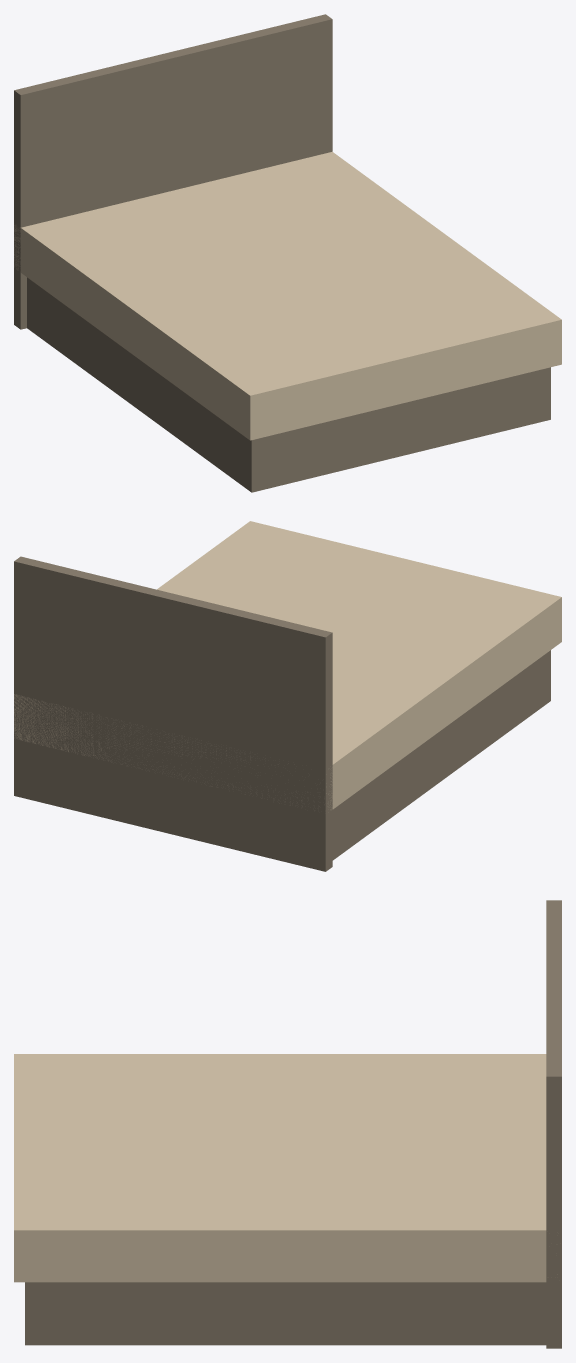
Rendered from bed_queen_premium.glb.
3 views of the same model, one above another, from view 1: azimuth 30°, elevation 25°; view 2: azimuth 150°, elevation 25°; view 3: azimuth 270°, elevation 25° (orthographic). The views are drawn at different scales.
Parts seen in each view (by area): view 1: furniture; view 2: furniture; view 3: furniture.
Part boxes in pixels (x1,y1,x2,y2): furniture: (14, 14, 561, 492); furniture: (14, 521, 561, 871); furniture: (14, 900, 561, 1348).
Bounding box in the file's own units: 1.6 × 1.15 × 2.1.
